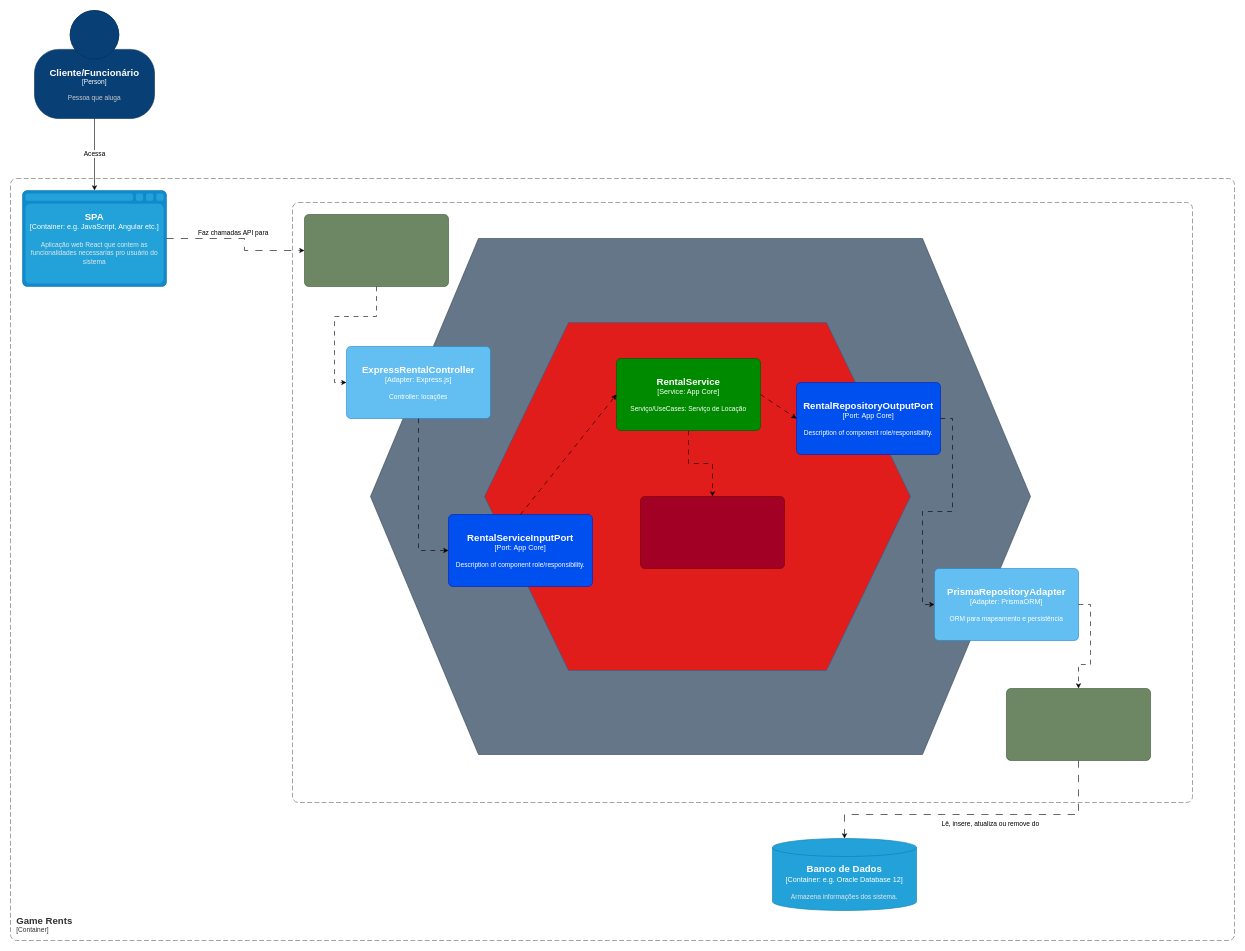
Some shapes in this 1245 by 951 pixel diagram are drawn without their labels. The box of each missing label's shape, as (x1, y1, x2, y2) in pixels:
API de Locação [Container]: (292, 202, 1192, 802)
Express.js [HttpServerFramework: Node.js] Servidor web: (304, 214, 448, 286)
Prisma [PrismaORM: ORM] Mapeamento e persistência: (1006, 688, 1150, 760)
Rental [Domain: App Core] Domínio: Entidade Locação: (640, 496, 784, 568)
